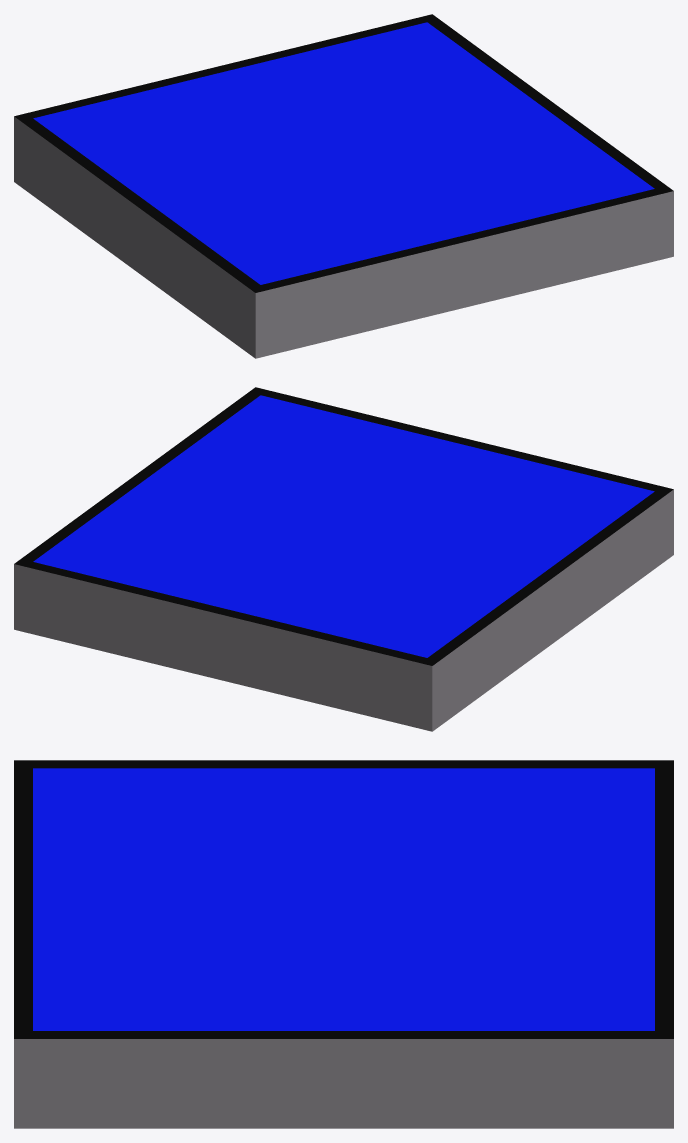
Rendered from Base_Platform.fbx.
3 renders of one model, top to bottom at view 1: azimuth 30°, elevation 25°; view 2: azimuth 150°, elevation 25°; view 3: azimuth 270°, elevation 25°, orthographic. The views are drawn at different scales.
Visible parts, largest first — view 1: Base_Platform; view 2: Base_Platform; view 3: Base_Platform.
Part boxes in pixels (box(x1,y1,x2,y2)): Base_Platform: box(14, 14, 673, 358); Base_Platform: box(14, 387, 673, 731); Base_Platform: box(14, 760, 673, 1128).
Size of the model in its own units: 20 by 3 by 20.
1 material, 1 textured.
